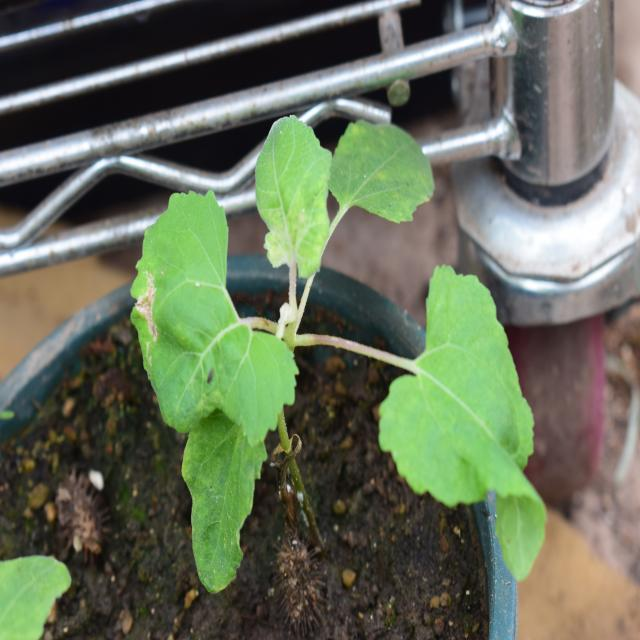cocklebur: (101, 114, 564, 572)
